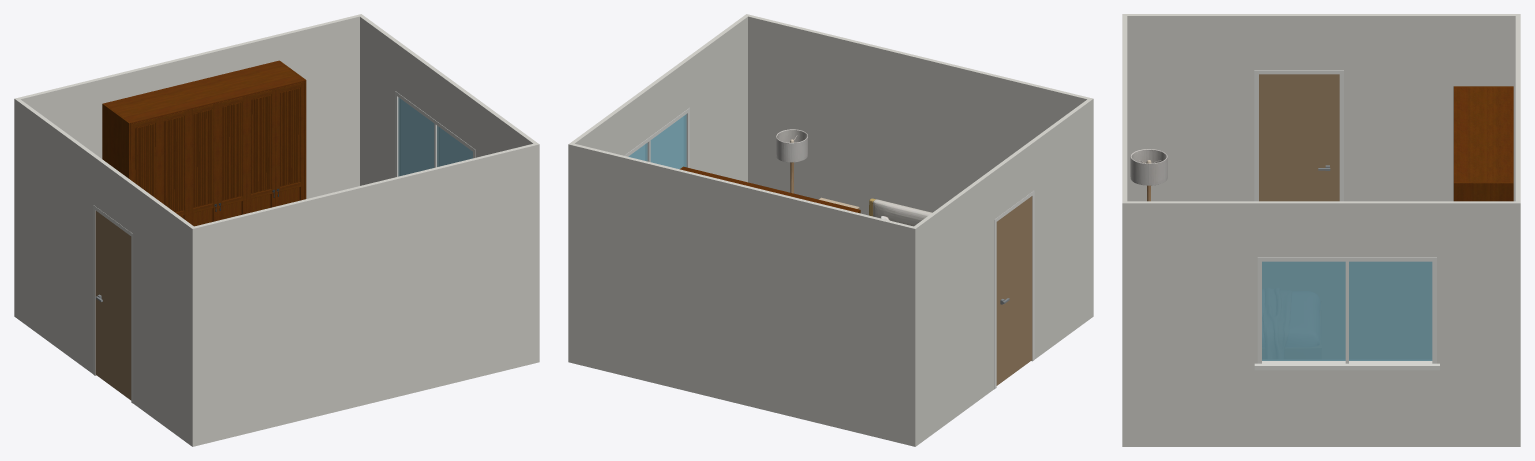
Rendered from scenesmith.glb.
The picture shows the model from 3 angles, left to right: view 1: azimuth 30°, elevation 25°; view 2: azimuth 150°, elevation 25°; view 3: azimuth 270°, elevation 25°; orthographic projection. The views are drawn at different scales.
Parts seen in each view (by area): view 1: scene_051_bedroom_south_wall, scene_051_bedroom_west_wall, P_1475bb54bce7585f.001, scene_051_bedroom_north_wall, scene_051_bedroom_east_wall, scene_051_bedroom_west_wall Door 0 | wood leaf, scene_051_bedroom_east_wall Window 0 | glazing, scene_051_bedroom_west_wall Door 0 | jamb, scene_051_bedroom_east_wall Window 0 | jamb; view 2: scene_051_bedroom_north_wall, scene_051_bedroom_south_wall, scene_051_bedroom_west_wall, scene_051_bedroom_east_wall, scene_051_bedroom_west_wall Door 0 | wood leaf, furniture_group, scene_051_bedroom_east_wall Window 0 | glazing, scene_051_bedroom_west_wall Door 0 | jamb, P_1475bb54bce7585f.001, scene_051_bedroom_east_wall Window 0 | jamb; view 3: scene_051_bedroom_east_wall, scene_051_bedroom_west_wall, scene_051_bedroom_east_wall Window 0 | glazing, scene_051_bedroom_west_wall Door 0 | wood leaf, P_1475bb54bce7585f.001, scene_051_bedroom_east_wall Window 0 | jamb, scene_051_bedroom_north_wall, scene_051_bedroom_south_wall, scene_051_bedroom_west_wall Door 0 | jamb, furniture_group.
Boxes of the visible parts, x1=… form: scene_051_bedroom_south_wall: x1=192, y1=143, x2=539, y2=446; scene_051_bedroom_west_wall: x1=15, y1=98, x2=196, y2=446; P_1475bb54bce7585f.001: x1=102, y1=60, x2=306, y2=226; scene_051_bedroom_north_wall: x1=14, y1=15, x2=359, y2=317; scene_051_bedroom_east_wall: x1=358, y1=14, x2=538, y2=185; scene_051_bedroom_west_wall Door 0 | wood leaf: x1=95, y1=211, x2=131, y2=400; scene_051_bedroom_east_wall Window 0 | glazing: x1=398, y1=97, x2=472, y2=176; scene_051_bedroom_west_wall Door 0 | jamb: x1=93, y1=205, x2=133, y2=403; scene_051_bedroom_east_wall Window 0 | jamb: x1=395, y1=91, x2=475, y2=177; scene_051_bedroom_north_wall: x1=568, y1=143, x2=917, y2=446; scene_051_bedroom_south_wall: x1=748, y1=15, x2=1089, y2=215; scene_051_bedroom_west_wall: x1=911, y1=98, x2=1093, y2=446; scene_051_bedroom_east_wall: x1=569, y1=14, x2=749, y2=182; scene_051_bedroom_west_wall Door 0 | wood leaf: x1=996, y1=196, x2=1032, y2=385; furniture_group: x1=776, y1=129, x2=931, y2=226; scene_051_bedroom_east_wall Window 0 | glazing: x1=628, y1=114, x2=686, y2=169; scene_051_bedroom_west_wall Door 0 | jamb: x1=994, y1=190, x2=1034, y2=389; P_1475bb54bce7585f.001: x1=680, y1=166, x2=860, y2=213; scene_051_bedroom_east_wall Window 0 | jamb: x1=624, y1=108, x2=689, y2=167; scene_051_bedroom_east_wall: x1=1122, y1=201, x2=1520, y2=446; scene_051_bedroom_west_wall: x1=1122, y1=14, x2=1520, y2=201; scene_051_bedroom_east_wall Window 0 | glazing: x1=1262, y1=261, x2=1432, y2=360; scene_051_bedroom_west_wall Door 0 | wood leaf: x1=1259, y1=74, x2=1339, y2=201; P_1475bb54bce7585f.001: x1=1453, y1=86, x2=1513, y2=201; scene_051_bedroom_east_wall Window 0 | jamb: x1=1254, y1=257, x2=1439, y2=370; scene_051_bedroom_north_wall: x1=1515, y1=16, x2=1520, y2=446; scene_051_bedroom_south_wall: x1=1122, y1=16, x2=1127, y2=446; scene_051_bedroom_west_wall Door 0 | jamb: x1=1254, y1=70, x2=1343, y2=201; furniture_group: x1=1130, y1=149, x2=1167, y2=201.
Size of the model in its own units: 4.6 by 2.71 by 4.
11 materials, 4 textured.
